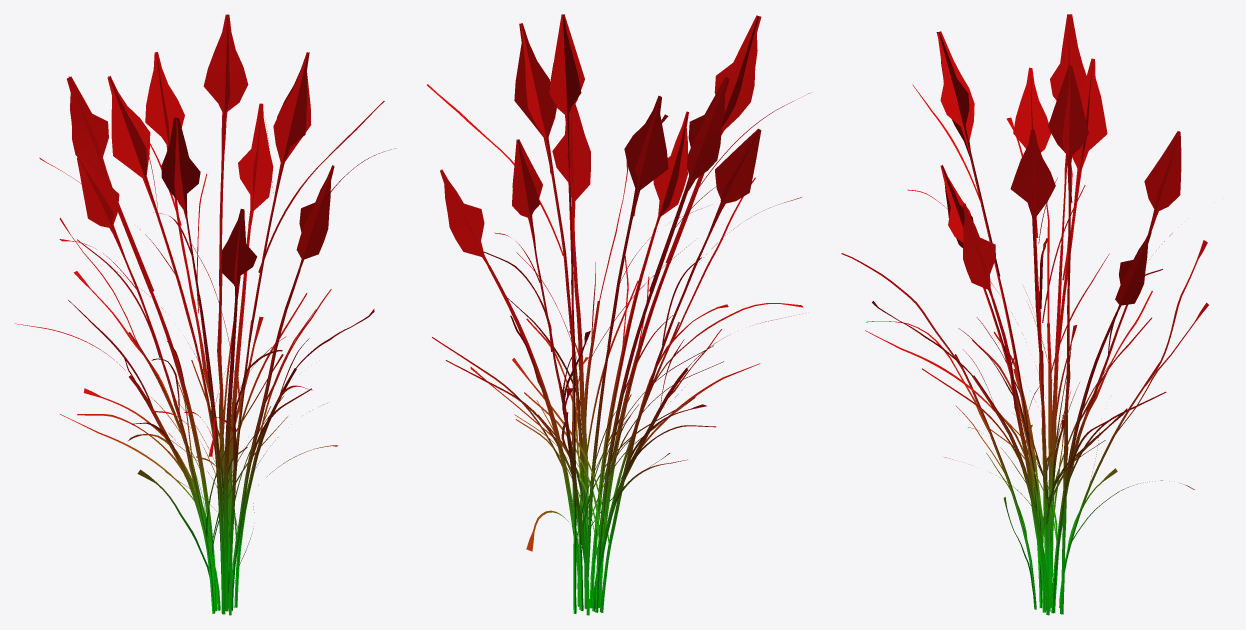
Rendered from skFjJ_Var3_LOD0.fbx.
The picture shows the model from 3 angles, left to right: view 1: azimuth 30°, elevation 25°; view 2: azimuth 150°, elevation 25°; view 3: azimuth 270°, elevation 25°; orthographic projection. The views are drawn at different scales.
Visible parts, largest first — view 1: _bc0f_Var3_LOD0; view 2: _bc0f_Var3_LOD0; view 3: _bc0f_Var3_LOD0.
Part boxes in pixels (left/top/right/bottom): _bc0f_Var3_LOD0: left=15, top=14, right=395, bottom=615; _bc0f_Var3_LOD0: left=427, top=14, right=809, bottom=615; _bc0f_Var3_LOD0: left=841, top=14, right=1208, bottom=615.
Bounding box in the file's own units: 85.33 × 128 × 82.21.
